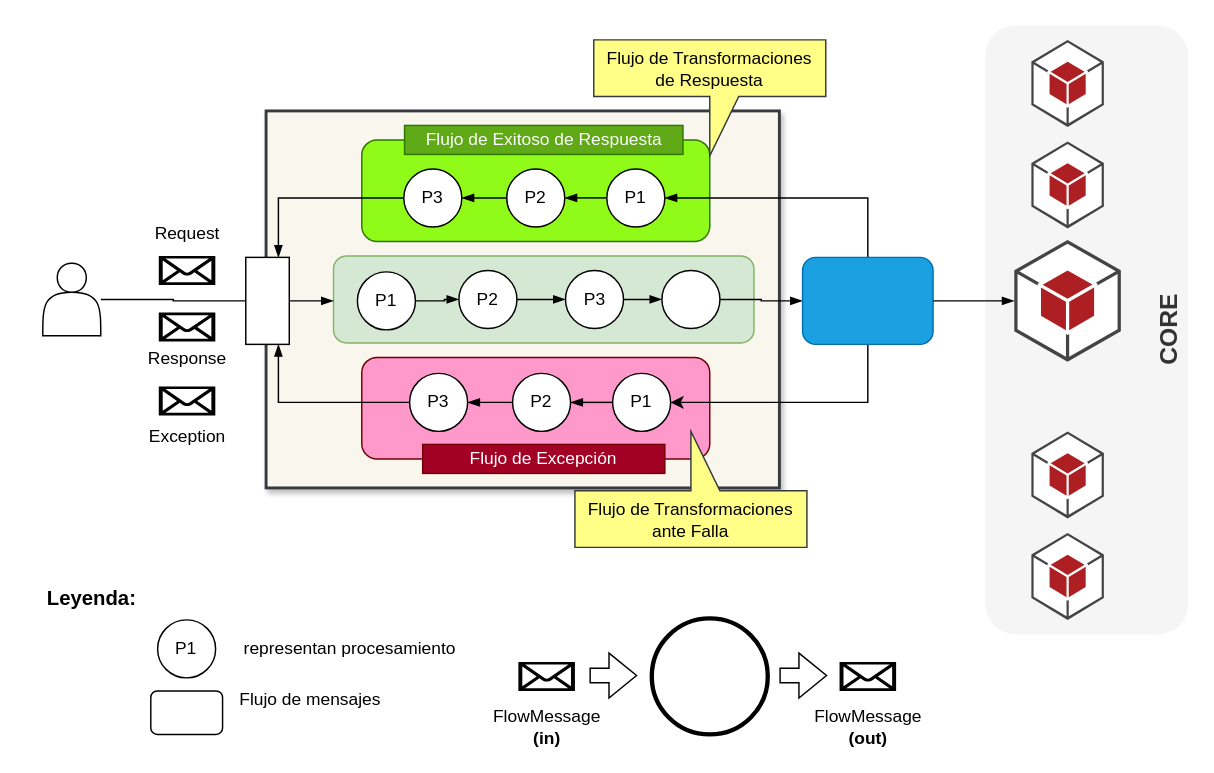
Image size: 1214x773. Some labels were removed from this diagram. Here are the shapes that lost their labels. From the top down, the centre of each, then its label:
At point (71, 299): "Consumidor".
At point (690, 298): "P4".
At point (867, 300): "OPERATE".
At point (1067, 300): "API Destino [ Altas, Viajes, ... ]".
At point (709, 676): "Proceso".
